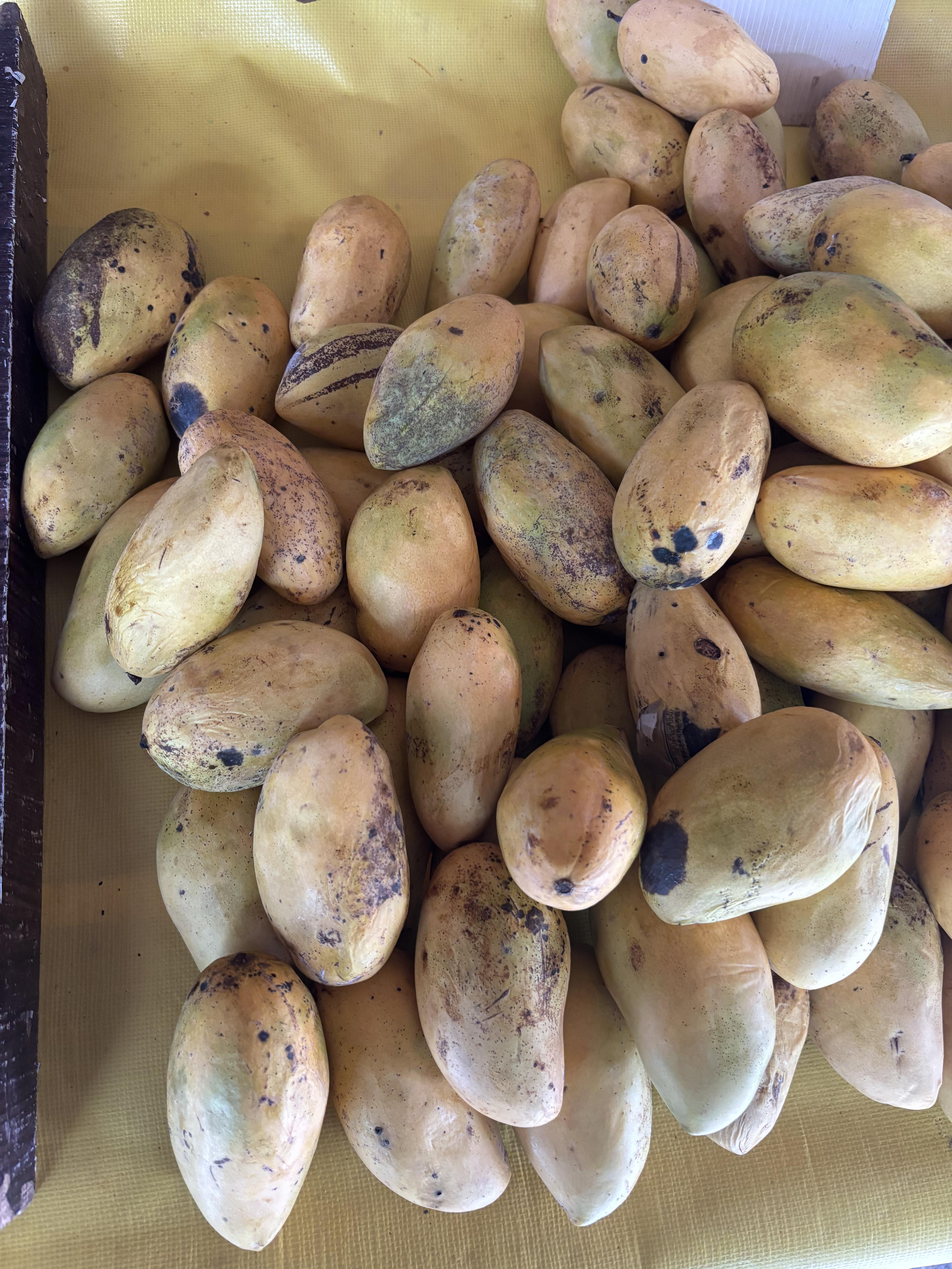mango: (639, 707, 882, 925), (167, 952, 329, 1251), (253, 715, 409, 986), (104, 441, 264, 678), (612, 381, 770, 590), (34, 208, 204, 390), (363, 295, 524, 470), (496, 725, 648, 910), (406, 608, 521, 851), (21, 373, 169, 557)
occluded: (316, 950, 510, 1212), (589, 866, 775, 1135), (415, 843, 570, 1127), (732, 272, 952, 467), (140, 621, 387, 792), (515, 945, 652, 1226), (754, 737, 899, 991), (716, 557, 952, 710), (473, 410, 634, 625), (809, 868, 943, 1109), (178, 410, 343, 605), (51, 479, 176, 712), (625, 582, 761, 788), (346, 465, 480, 672), (755, 464, 952, 591), (156, 787, 289, 970), (539, 326, 684, 489), (808, 182, 952, 339), (162, 276, 292, 437), (617, 0, 779, 121), (708, 973, 810, 1155), (290, 195, 411, 346), (684, 108, 785, 286), (479, 547, 564, 756), (561, 83, 688, 217), (427, 159, 540, 309), (812, 692, 934, 828), (586, 206, 699, 352), (275, 323, 402, 450), (743, 175, 890, 275), (528, 178, 630, 317), (808, 79, 929, 183), (670, 275, 776, 392), (507, 303, 592, 421), (549, 644, 636, 753), (301, 447, 388, 545), (225, 578, 357, 637), (916, 791, 952, 938), (902, 142, 952, 208), (752, 108, 787, 181), (908, 446, 952, 487), (335, 616, 335, 617)
